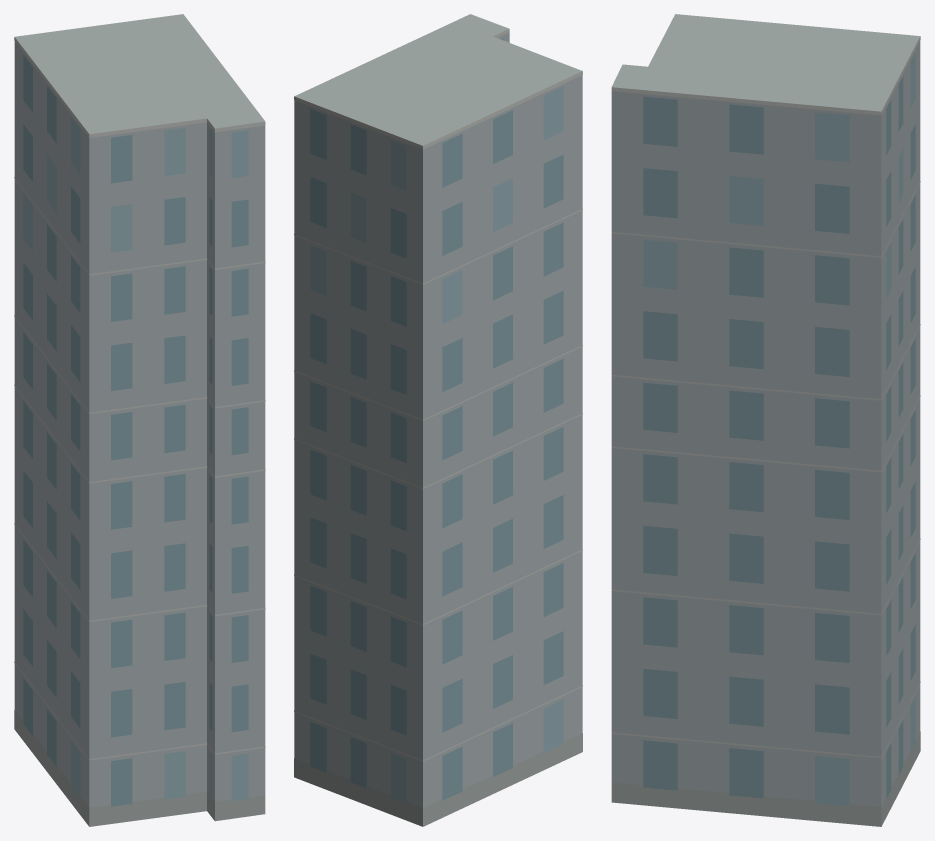
The model's file is survey-upis-32987515.glb.
3 renders of one model, left to right at view 1: azimuth 30°, elevation 25°; view 2: azimuth 150°, elevation 25°; view 3: azimuth 270°, elevation 25°, orthographic. The views are drawn at different scales.
Parts seen in each view (by area): view 1: survey-upis-32987515.tmp; view 2: survey-upis-32987515.tmp; view 3: survey-upis-32987515.tmp.
Boxes of the visible parts, box(x1,y1,x2,y2) form: survey-upis-32987515.tmp: box(14, 14, 265, 826); survey-upis-32987515.tmp: box(294, 14, 582, 826); survey-upis-32987515.tmp: box(611, 14, 920, 826).
Bounding box in the file's own units: 13.07 × 44.55 × 17.46.
